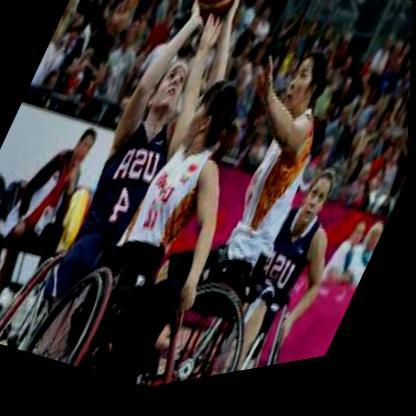basketball: (188, 0, 254, 39)
